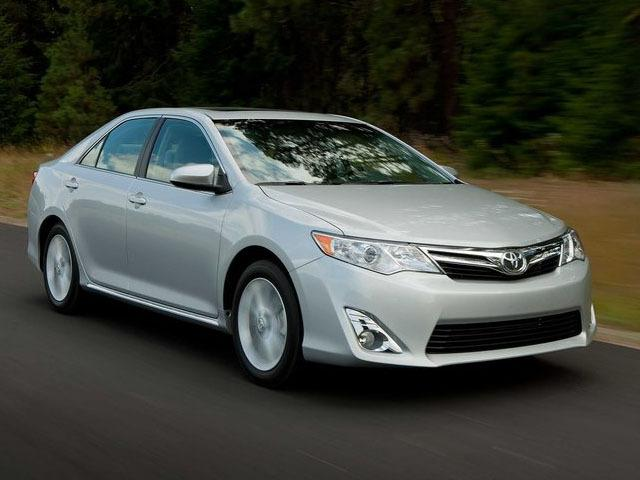Car: (16, 78, 625, 432)
